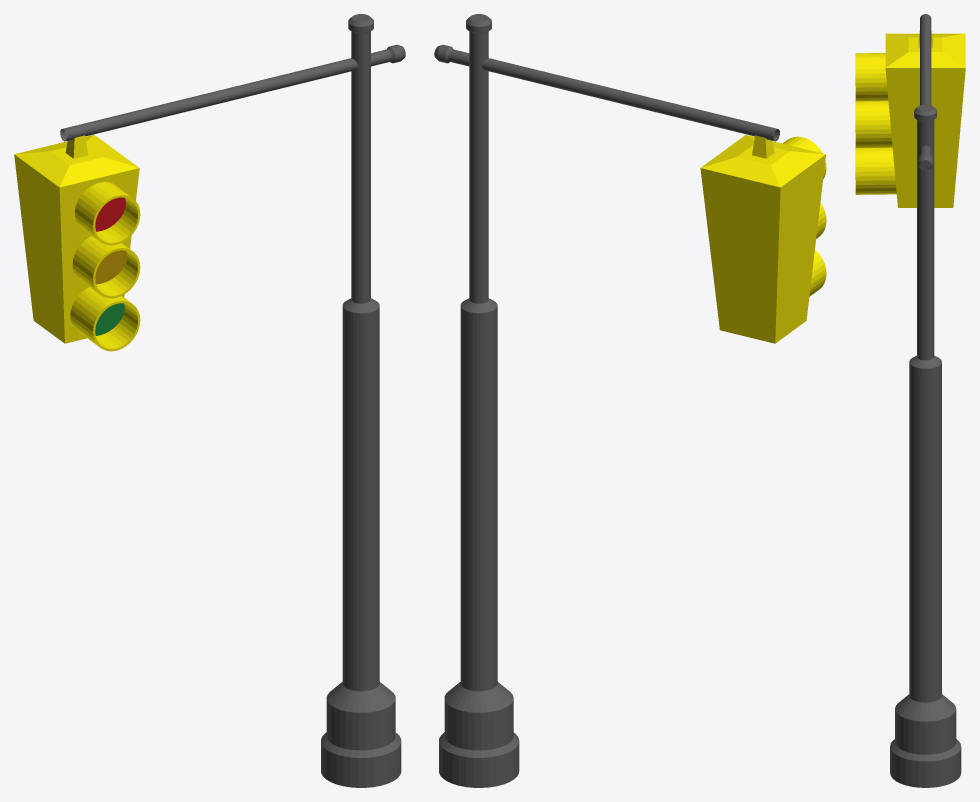
File: Столб светофор 2.fbx
The picture shows the model from 3 angles, left to right: view 1: azimuth 30°, elevation 25°; view 2: azimuth 150°, elevation 25°; view 3: azimuth 270°, elevation 25°; orthographic projection. The views are drawn at different scales.
Visible parts, largest first — view 1: Cylinder.001; view 2: Cylinder.001; view 3: Cylinder.001.
Boxes of the visible parts, x1,y1,x2,y2 form: Cylinder.001: (14,14,405,787); Cylinder.001: (434,14,826,787); Cylinder.001: (855,14,965,787).
Size of the model in its own units: 105 by 206 by 31.02.
